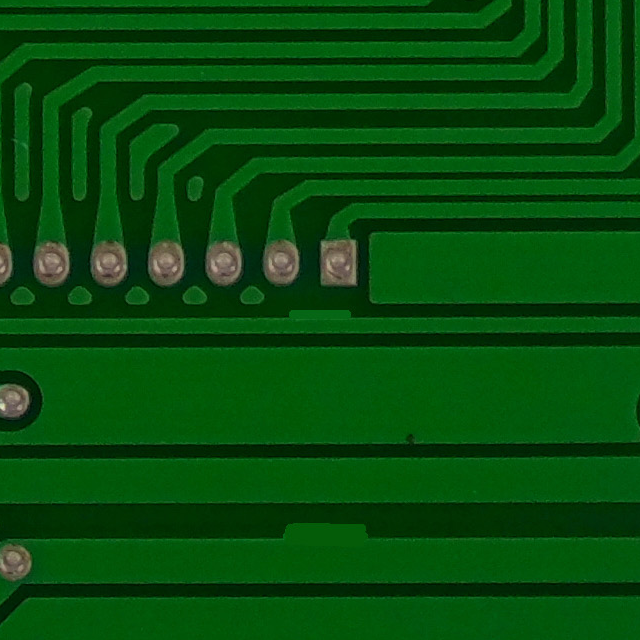spur: (269, 504, 385, 560), (276, 301, 364, 340)
